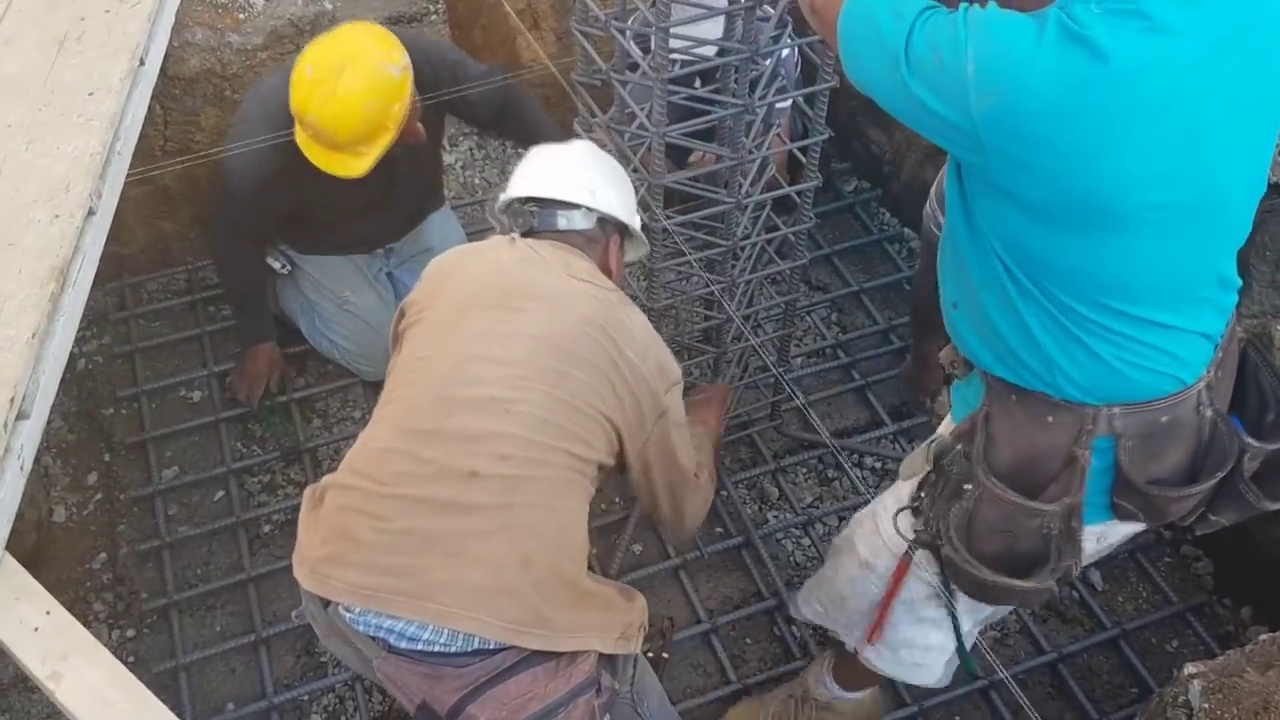helmet: (288, 24, 412, 178), (493, 133, 644, 247)
helmet-on: (269, 15, 429, 182), (486, 133, 644, 294)
person: (746, 0, 1280, 676), (278, 125, 728, 720), (202, 0, 475, 408)
